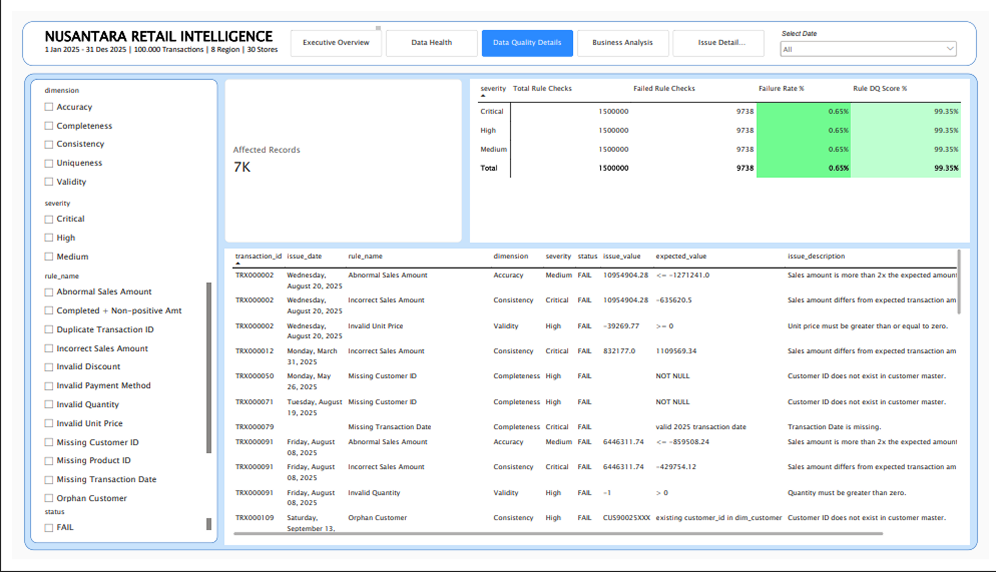

This screenshot's page, from the dashboard's own definition file:
{"tool":"powerbi","page":{"name":"Data Quality Details","canvas":[1920,1080],"ordinal":2},"visuals":[{"type":"group","id":"g1","title":"Navbar and Layout","box":[20,20,1877.5,1040],"z":0},{"type":"textbox","box":[63.6,65.6,706.9,24.3],"z":0,"group":"g5"},{"type":"shape","box":[23.8,122.5,1874.4,940.4],"z":0,"group":"g1"},{"type":"group","id":"g2","title":"Group 2","box":[35.7,134.5,367.5,916.2],"z":0,"group":"g3"},{"type":"shape","box":[20,20,1875.7,87.9],"z":1000,"group":"g1"},{"type":"textbox","box":[63.6,30,660.5,30.8],"z":1000,"group":"g5"},{"type":"group","id":"g3","title":"Group 4","box":[35.7,134.3,1847.1,917.1],"z":1000},{"type":"group","id":"g4","title":"Group 3","box":[416.9,134.3,1465.5,916.5],"z":1000,"group":"g3"},{"type":"cardVisual","fields":{"Data":["MEASURES (2).Affected Records"]},"box":[417.4,134.3,466,322],"z":1000,"group":"g4"},{"type":"shape","box":[35.7,134.5,368,915.2],"z":1500,"group":"g2"},{"type":"pageNavigator","box":[546.7,36.7,933.3,53.3],"z":2000},{"type":"slicer","fields":{"Values":["warehouse dim_date.date"]},"box":[1505,36.7,356.7,53.3],"z":2000,"group":"g1"},{"type":"slicer","fields":{"Values":["quality dim_dq_rule.dimension"]},"box":[56,147.5,334,228.1],"z":2000,"group":"g2"},{"type":"group","id":"g5","title":"Group 1","box":[63.6,30,707.1,60],"z":3000,"group":"g1"},{"type":"slicer","fields":{"Values":["quality dim_dq_rule.severity"]},"box":[56,368.6,333,144],"z":3000,"group":"g2"},{"type":"tableEx","fields":{"Values":["quality dq_issue_detail.transaction_id","quality dq_issue_detail.issue_date","quality dim_dq_rule.rule_name","quality dim_dq_rule.dimension","quality dq_issue_detail.severity","quality dq_issue_detail.status","quality dq_issue_detail.issue_value","quality dq_issue_detail.expected_value","quality dq_issue_detail.issue_description"]},"box":[416.9,468.3,1465,582.5],"z":3000,"group":"g4"},{"type":"pivotTable","fields":{"Rows":["quality dim_dq_rule.rule_name","quality dim_dq_rule.dimension","quality dq_issue_detail.severity"],"Values":["MEASURES (2).Total Rule Checks","MEASURES (2).Failed Rule Checks","MEASURES (2).Failure Rate %","MEASURES (2).Rule DQ Score %"]},"box":[899.4,134.3,983,322],"z":4000,"group":"g4"},{"type":"slicer","fields":{"Values":["quality dim_dq_rule.rule_name"]},"box":[56,512.6,335,455.1],"z":4000,"group":"g2"},{"type":"slicer","fields":{"Values":["quality dq_issue_detail.status"]},"box":[56,977.7,334,57],"z":5000,"group":"g2"}]}

Visuals, with their boxes in screenshot pixels (x1, y1, x2, y2), scaled from the page's 1920x1080 canvas onto the 996x573 screenshot:
"Navbar and Layout" group: box(10, 11, 984, 562)
textbox: box(33, 35, 400, 48)
shape: box(12, 65, 985, 564)
"Group 2" group: box(19, 71, 209, 557)
shape: box(10, 11, 983, 57)
textbox: box(33, 16, 376, 32)
"Group 4" group: box(19, 71, 977, 558)
"Group 3" group: box(216, 71, 976, 558)
cardVisual - MEASURES (2).Affected Records: box(217, 71, 458, 242)
shape: box(19, 71, 209, 557)
pageNavigator: box(284, 19, 768, 48)
slicer - warehouse dim_date.date: box(781, 19, 966, 48)
slicer - quality dim_dq_rule.dimension: box(29, 78, 202, 199)
"Group 1" group: box(33, 16, 400, 48)
slicer - quality dim_dq_rule.severity: box(29, 196, 202, 272)
tableEx - quality dq_issue_detail.transaction_id x quality dq_issue_detail.issue_date: box(216, 248, 976, 558)
pivotTable - quality dim_dq_rule.rule_name x quality dim_dq_rule.dimension: box(467, 71, 976, 242)
slicer - quality dim_dq_rule.rule_name: box(29, 272, 203, 513)
slicer - quality dq_issue_detail.status: box(29, 519, 202, 549)
